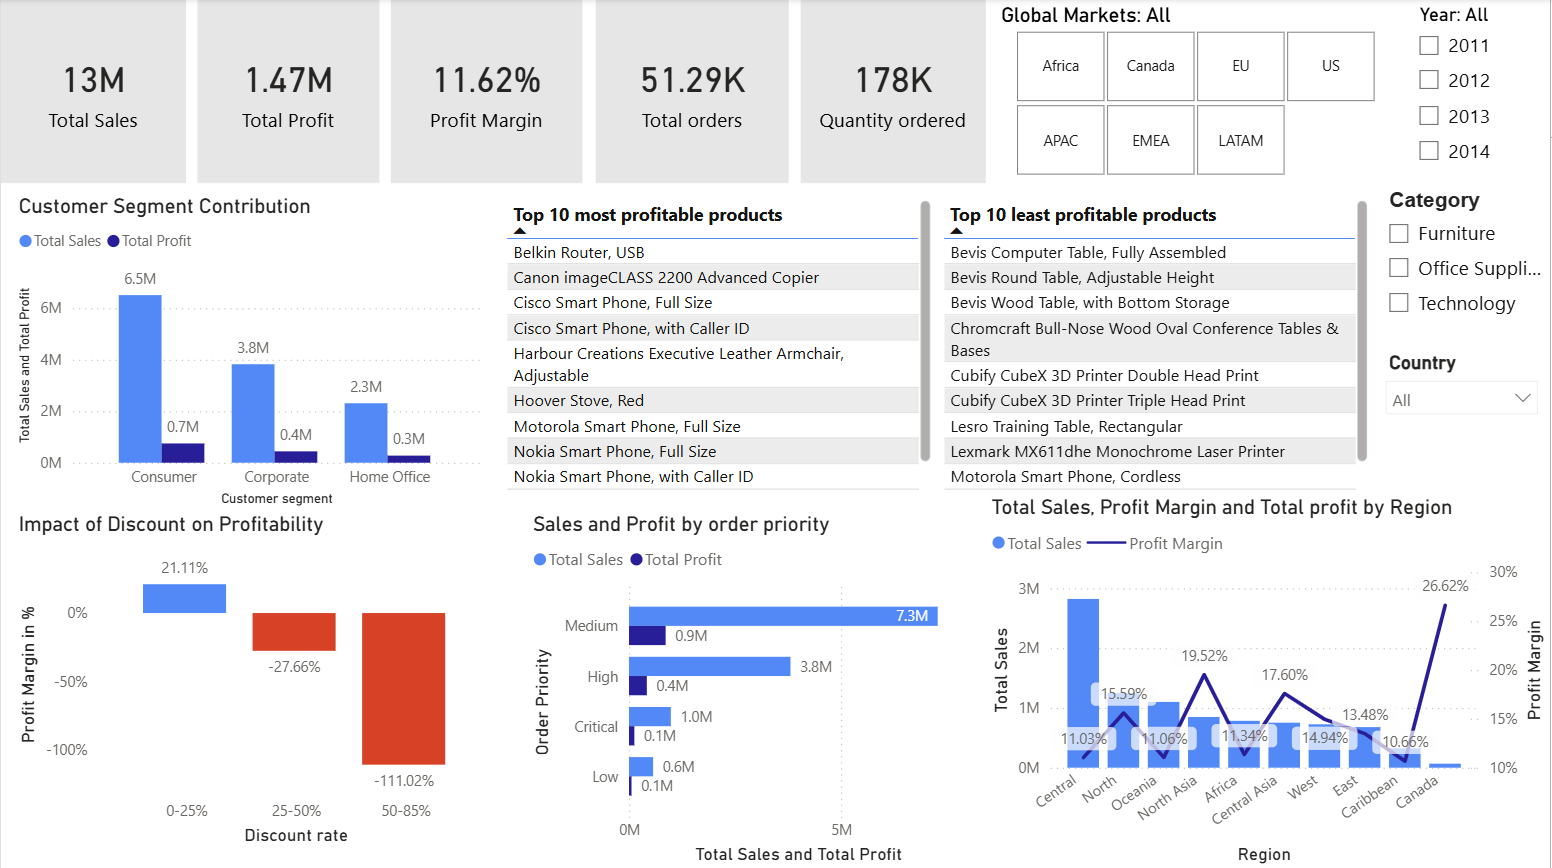

This screenshot's page, from the dashboard's own definition file:
{"tool":"powerbi","page":{"name":"Page 1","canvas":[1280,720],"ordinal":0},"visuals":[{"type":"card","fields":{"Values":["Sum(Superstore_sales.sales)"]},"box":[0,0,152.7,152.7],"z":0},{"type":"card","fields":{"Values":["Sum(Superstore_sales.profit)"]},"box":[162.4,0,149.9,152.7],"z":1000},{"type":"card","fields":{"Values":["Superstore_sales.Profit Margin"]},"box":[322.1,0,158.3,152.7],"z":2000},{"type":"slicer","fields":{"Values":["Superstore_sales.category"]},"box":[1134.2,152.7,145.8,151.3],"z":3000},{"type":"slicer","fields":{"Values":["Superstore_sales.market"]},"box":[813.5,0,345.7,152.7],"z":4000},{"type":"slicer","fields":{"Values":["Superstore_sales.year"]},"box":[1159.2,0,120.8,152.7],"z":5000},{"type":"clusteredColumnChart","title":"Sales and Profit by Segment","fields":{"Category":["Superstore_sales.segment"],"Y":["Sum(Superstore_sales.sales)","Sum(Superstore_sales.profit)"]},"box":[9.7,162.4,391.5,262.4],"z":6000},{"type":"clusteredBarChart","title":"Sales and Profit by order priority","fields":{"Category":["Superstore_sales.order_priority"],"Y":["Sum(Superstore_sales.sales)","Sum(Superstore_sales.profit)"]},"box":[434.5,424.8,379,295.7],"z":7000},{"type":"lineClusteredColumnComboChart","fields":{"Category":["Superstore_sales.region"],"Y":["Sum(Superstore_sales.sales)"],"Y2":["Superstore_sales.Profit Margin"]},"box":[813.5,410.9,466.4,309.6],"z":8000},{"type":"clusteredColumnChart","title":"Profit margins by discount rates","fields":{"Y":["Superstore_sales.Profit Margin"],"Category":["Superstore_sales.Discount Bucket"]},"box":[9.7,424.8,402.6,280.4],"z":9001},{"type":"tableEx","fields":{"Values":["Superstore_sales.product_name"]},"box":[412.3,162.4,360.9,248.5],"z":9002},{"type":"card","fields":{"Values":["CountNonNull(Superstore_sales.order_id)"]},"box":[491.4,0,159.6,152.7],"z":9003},{"type":"tableEx","fields":{"Values":["Superstore_sales.product_name"]},"box":[773.2,162.4,360.9,248.5],"z":9004},{"type":"card","fields":{"Values":["Sum(Superstore_sales.quantity)"]},"box":[660.8,0,152.7,152.7],"z":9005},{"type":"slicer","fields":{"Values":["Superstore_sales.country"]},"box":[1134.2,304,145.8,90.2],"z":9006}]}

Visuals, with their boxes in screenshot pixels (x1, y1, x2, y2), scaled from the page's 1280x720 canvas onto the 1552x868 screenshot:
card - Sum(Superstore_sales.sales): 0,0,185,184
card - Sum(Superstore_sales.profit): 197,0,379,184
card - Superstore_sales.Profit Margin: 391,0,582,184
slicer - Superstore_sales.category: 1375,184,1551,366
slicer - Superstore_sales.market: 986,0,1406,184
slicer - Superstore_sales.year: 1406,0,1551,184
"Sales and Profit by Segment" clusteredColumnChart: 12,196,486,512
"Sales and Profit by order priority" clusteredBarChart: 527,512,986,867
lineClusteredColumnComboChart - Superstore_sales.region x Sum(Superstore_sales.sales): 986,495,1551,867
"Profit margins by discount rates" clusteredColumnChart: 12,512,500,850
tableEx - Superstore_sales.product_name: 500,196,938,495
card - CountNonNull(Superstore_sales.order_id): 596,0,789,184
tableEx - Superstore_sales.product_name: 938,196,1375,495
card - Sum(Superstore_sales.quantity): 801,0,986,184
slicer - Superstore_sales.country: 1375,366,1551,475
